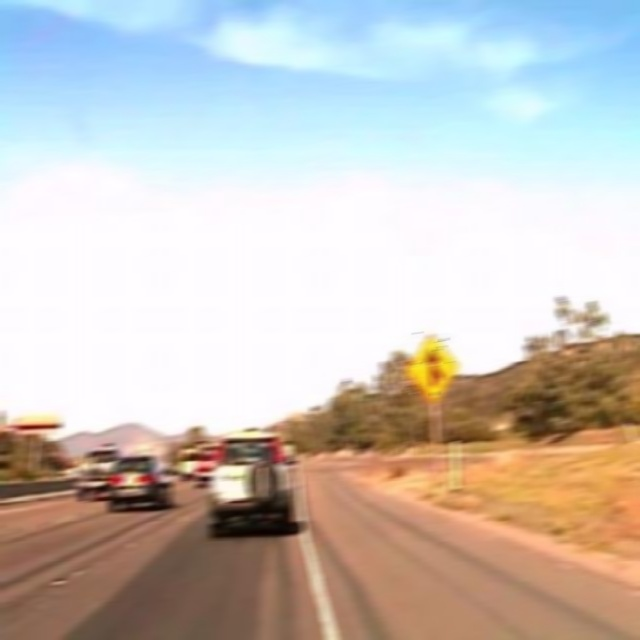merge: (406, 332, 458, 402)
